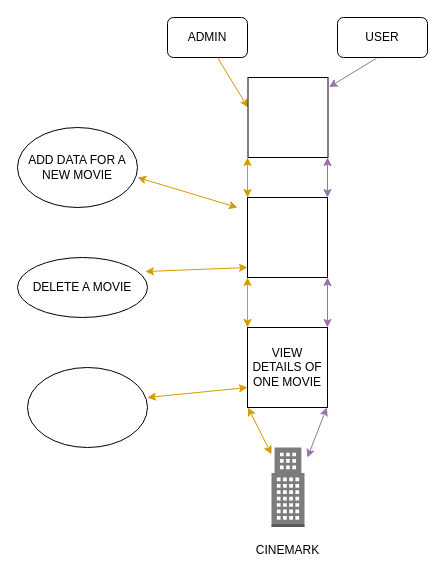
Some shapes in this 445 by 583 pixel diagram are drawn without their labels. The shapes that lost their labels are listed below. From the top down, each one's centre as x and y in pixels, then its label:
At point (287, 117): "LOGIN PAGE".
At point (287, 237): "MOVIE LIST".
At point (87, 407): "UPDATE DATA FOR ONE MOVIE".
